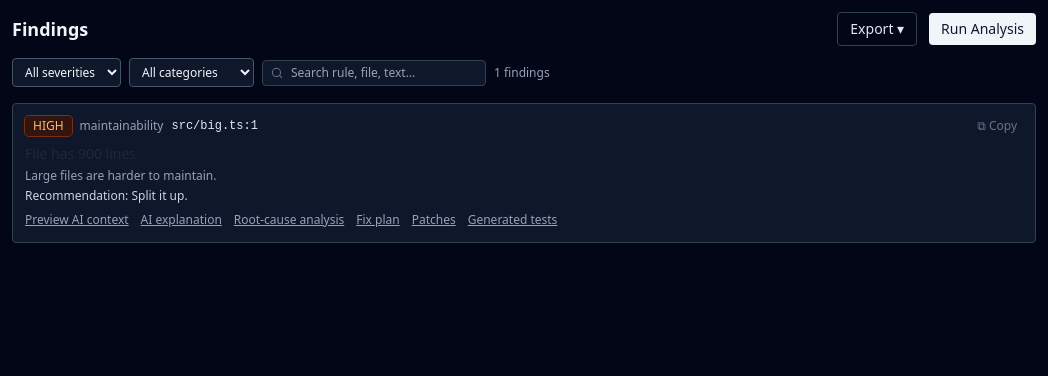
it: FindingsPage › disables 'Generate fix plan' when no AI provider is enabled
Expected: the text "src/big.ts:1" is shown, top-left (172, 118), bottom-right (258, 134)
Click the button "Fix plan".
click(378, 220)  # box top-left (356, 212), bottom-right (400, 228)
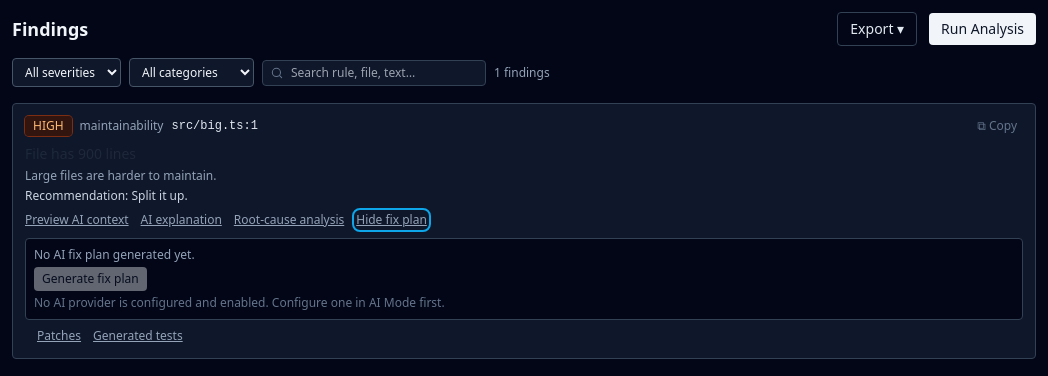
Result: the text "No AI fix plan generated yet." is shown at top-left (34, 246), bottom-right (195, 263)
Result: the button "Generate fix plan" is disabled at top-left (34, 267), bottom-right (147, 291)
